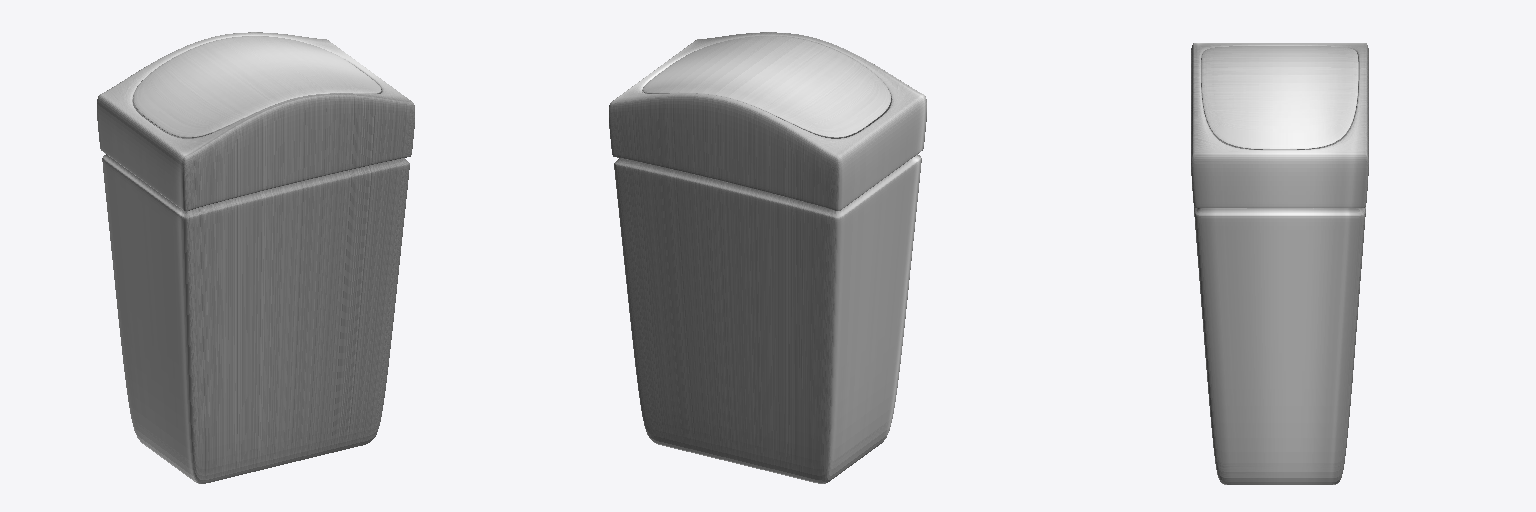
3 renders of one model, left to right at view 1: azimuth 30°, elevation 25°; view 2: azimuth 150°, elevation 25°; view 3: azimuth 270°, elevation 25°, orthographic.
Parts seen in each view (by area): view 1: FREE_TRASH_CAN_1_BODY, FREE_TRASHCAN_1_CAP, FREE_TRASHCAN_1_FLAP; view 2: FREE_TRASH_CAN_1_BODY, FREE_TRASHCAN_1_CAP, FREE_TRASHCAN_1_FLAP; view 3: FREE_TRASH_CAN_1_BODY, FREE_TRASHCAN_1_FLAP, FREE_TRASHCAN_1_CAP.
Part boxes in pixels (bbox=[...]): FREE_TRASH_CAN_1_BODY: bbox=[102, 125, 409, 483]; FREE_TRASHCAN_1_CAP: bbox=[97, 32, 414, 210]; FREE_TRASHCAN_1_FLAP: bbox=[133, 36, 381, 137]; FREE_TRASH_CAN_1_BODY: bbox=[614, 127, 921, 483]; FREE_TRASHCAN_1_CAP: bbox=[609, 32, 926, 210]; FREE_TRASHCAN_1_FLAP: bbox=[642, 36, 890, 137]; FREE_TRASH_CAN_1_BODY: bbox=[1194, 100, 1365, 484]; FREE_TRASHCAN_1_FLAP: bbox=[1201, 46, 1358, 149]; FREE_TRASHCAN_1_CAP: bbox=[1191, 43, 1368, 208].
Size of the model in its own units: 11.62 by 18.07 by 7.71.
Materials: 1 (1 with a texture image).